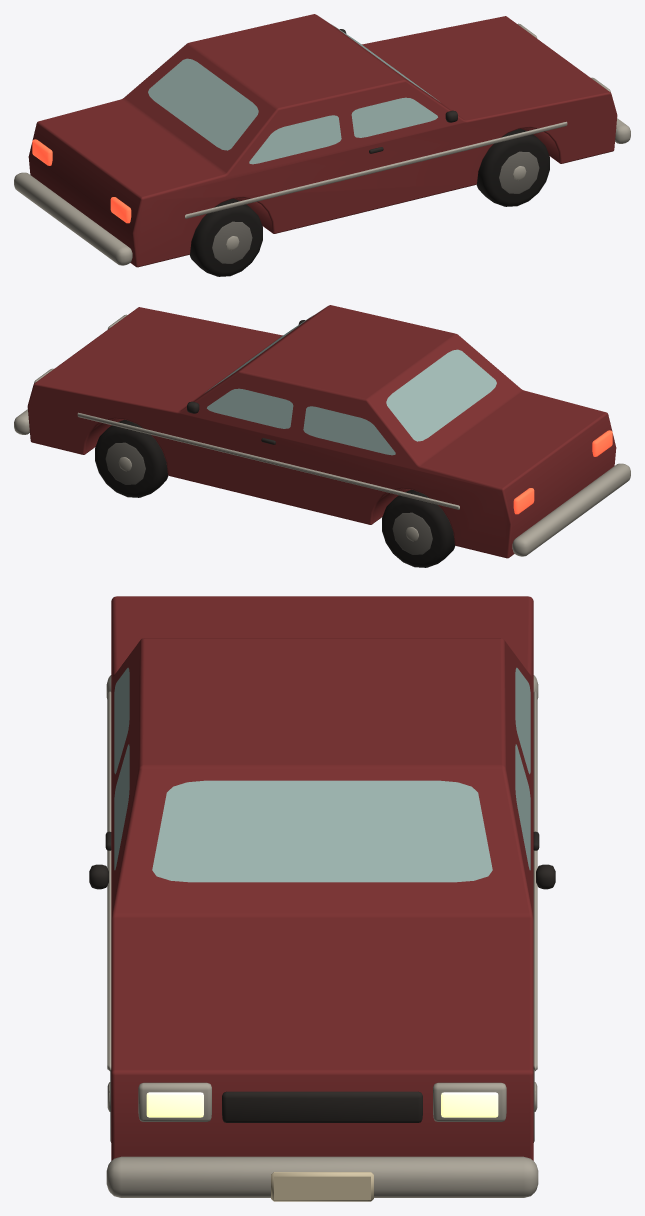
The model's file is sedan80.glb.
3 renders of one model, top to bottom at view 1: azimuth 30°, elevation 25°; view 2: azimuth 150°, elevation 25°; view 3: azimuth 270°, elevation 25°, orthographic. The views are drawn at different scales.
Parts seen in each view (by area): view 1: Sedan80, Sedan80_Wheel_FR, Sedan80_Wheel_RR; view 2: Sedan80, Sedan80_Wheel_FL, Sedan80_Wheel_RL; view 3: Sedan80.
Part boxes in pixels (x1,y1,x2,y2): Sedan80: (14,14,630,267); Sedan80_Wheel_FR: (476,128,549,206); Sedan80_Wheel_RR: (189,198,262,276); Sedan80: (14,305,630,558); Sedan80_Wheel_FL: (95,419,168,497); Sedan80_Wheel_RL: (382,489,455,567); Sedan80: (89,596,555,1201).
Bounding box in the file's own units: 4.87 × 1.36 × 1.9.
